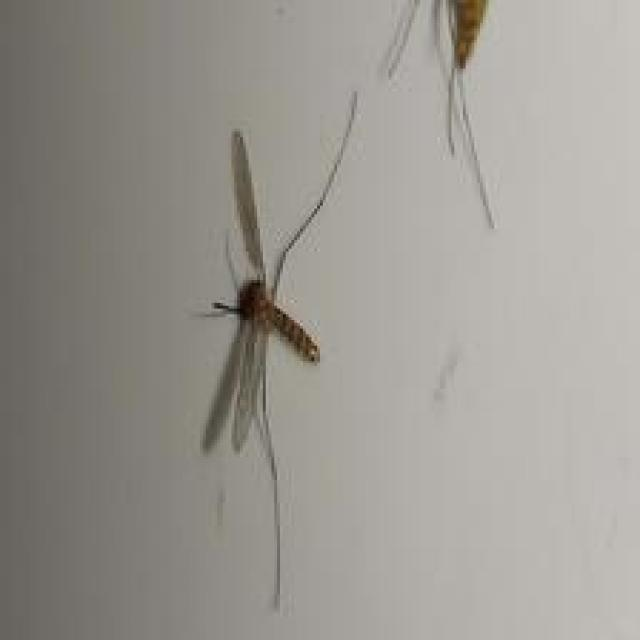Culex: (194, 90, 360, 610)
